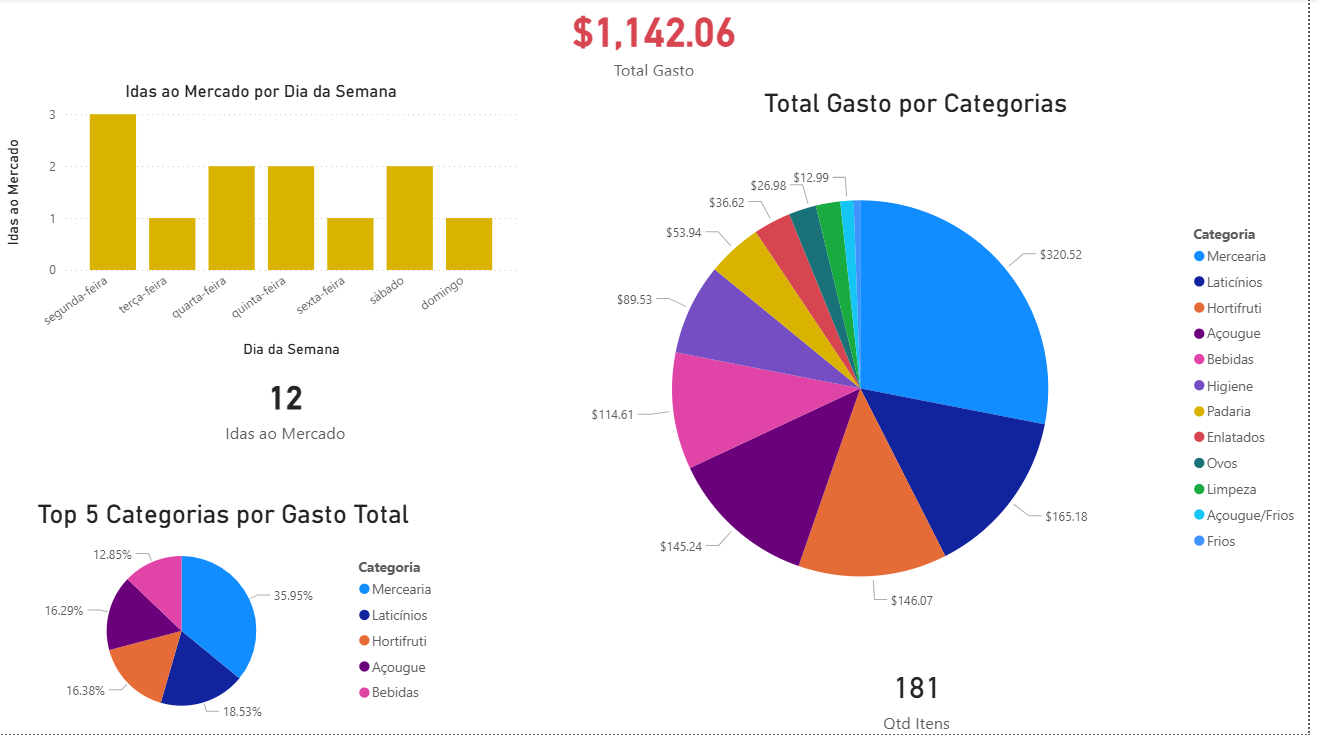

The dashboard page shown, as its layout file describes it:
{"tool":"powerbi","page":{"name":"Geral","canvas":[1280,720],"ordinal":0},"visuals":[{"type":"card","fields":{"Values":["Mercado.Total Gasto"]},"box":[459.9,0,342.6,87.9],"z":0},{"type":"card","fields":{"Values":["Mercado.Qtd Itens"]},"box":[782.6,640.7,191.9,79.1],"z":1000},{"type":"pieChart","title":"Total Gasto por Categorias","fields":{"Category":["Mercado.Categoria"],"Y":["Mercado.Total Gasto"]},"box":[510.6,101.4,769.8,538.8],"z":2000},{"type":"pieChart","title":"Top 5 Categorias por Gasto Total","fields":{"Category":["Mercado.Categoria"],"Y":["Mercado.Total Gasto"]},"box":[12.2,490.4,436.6,229.9],"z":3000},{"type":"clusteredColumnChart","fields":{"Category":["Mercado.Dia da Semana"],"Y":["Mercado.Idas ao Mercado"]},"box":[0,101.4,510.6,276.1],"z":4000},{"type":"card","fields":{"Values":["Mercado.Idas ao Mercado"]},"box":[204,370.8,173.6,76.6],"z":5000}]}

Visuals, with their boxes in screenshot pixels (x1, y1, x2, y2), scaled from the page's 1280x720 canvas onto the 1317x735 screenshot:
card - Mercado.Total Gasto: bbox=[473, 0, 826, 90]
card - Mercado.Qtd Itens: bbox=[805, 654, 1003, 734]
"Total Gasto por Categorias" pieChart: bbox=[525, 104, 1316, 654]
"Top 5 Categorias por Gasto Total" pieChart: bbox=[13, 501, 462, 734]
clusteredColumnChart - Mercado.Dia da Semana x Mercado.Idas ao Mercado: bbox=[0, 104, 525, 385]
card - Mercado.Idas ao Mercado: bbox=[210, 379, 389, 457]
